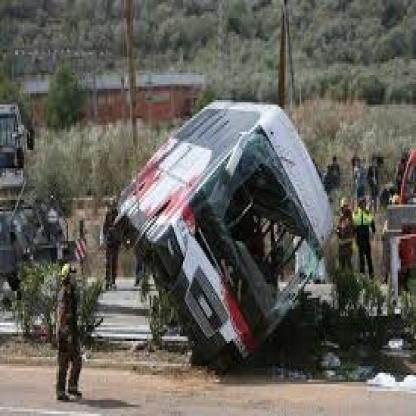accident: (118, 102, 336, 366)
